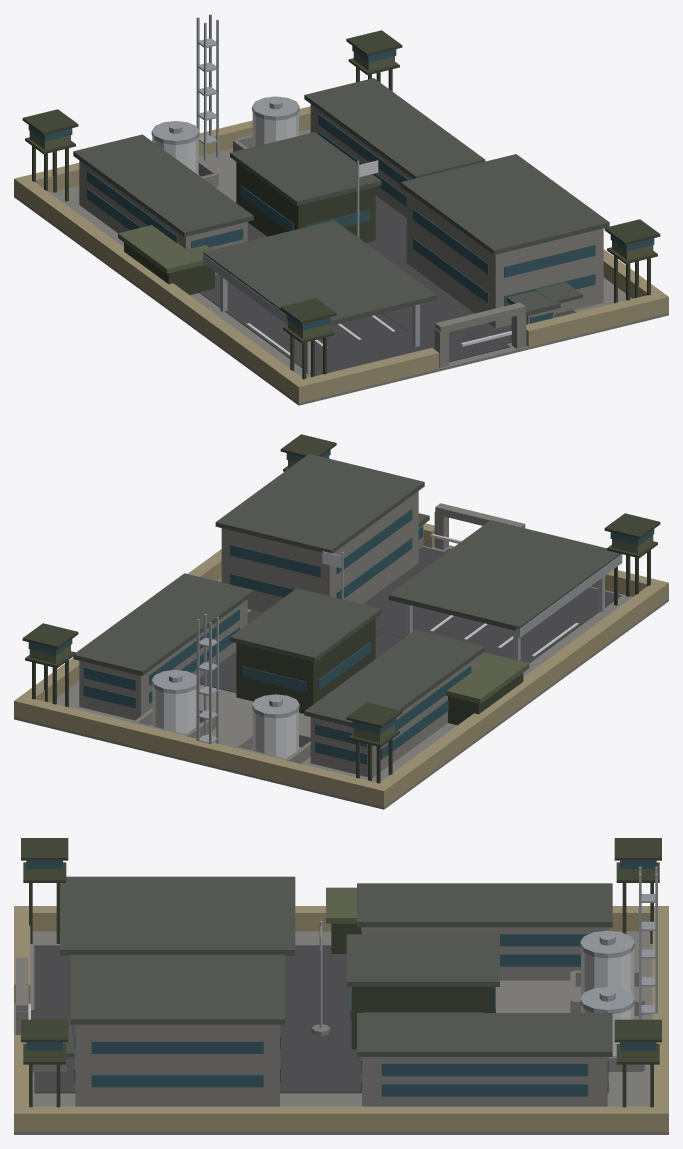
Rendered from Building_MilitaryBase.obj.
3 renders of one model, top to bottom at view 1: azimuth 30°, elevation 25°; view 2: azimuth 150°, elevation 25°; view 3: azimuth 270°, elevation 25°, orthographic. The views are drawn at different scales.
Size of the model in its own units: 48 by 17.3 by 64.
